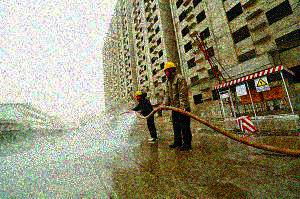helmet: (162, 61, 176, 76), (134, 91, 143, 101)
